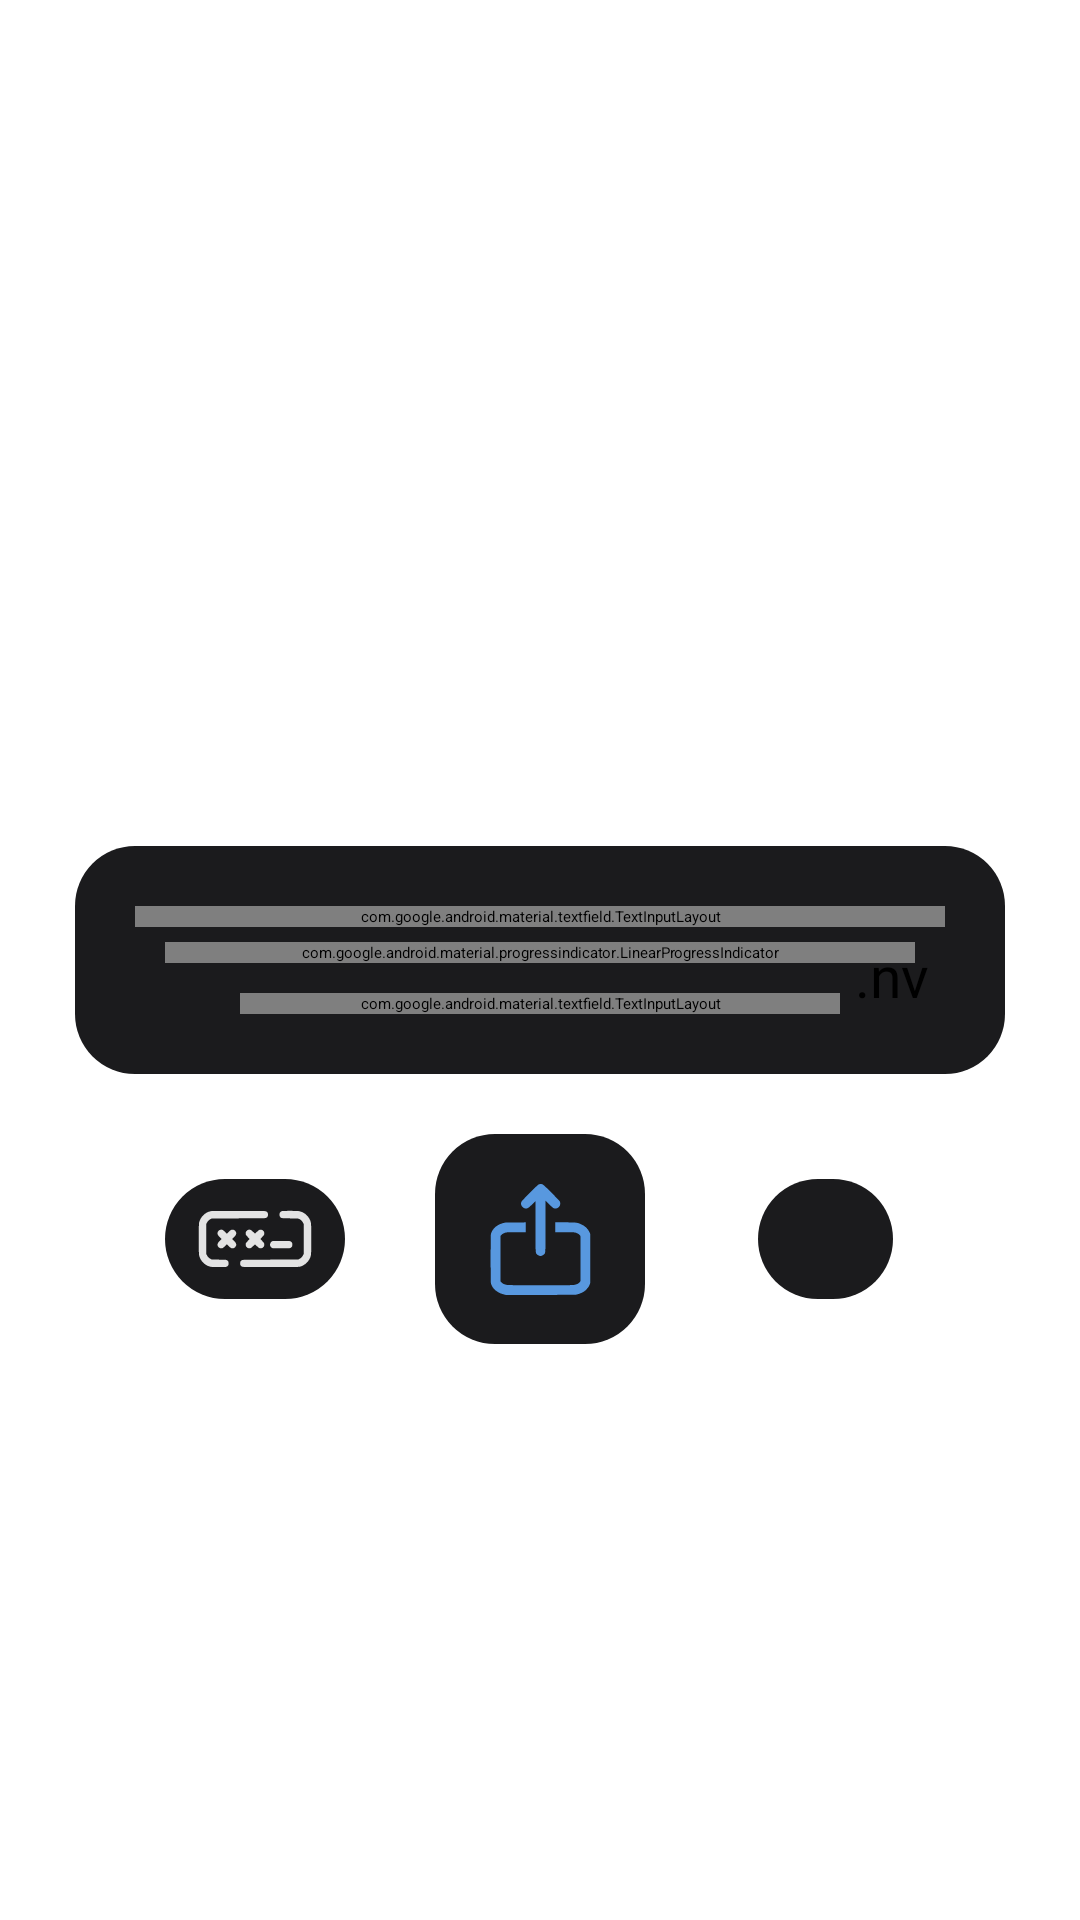

Icons on this 1080 x 1920 Android screen, each with the point to tap as (x,y):
export archive: (540,1239)
generator: (255,1239)
